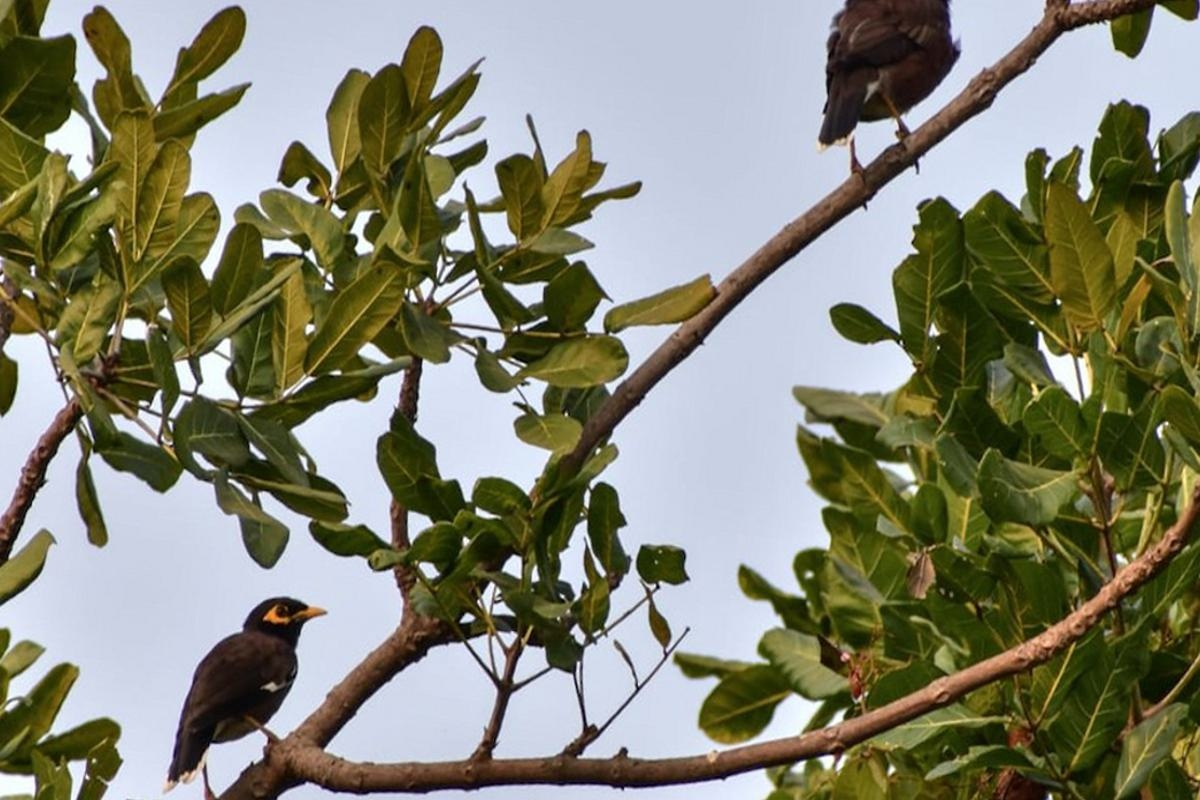myna: (136, 576, 316, 786)
